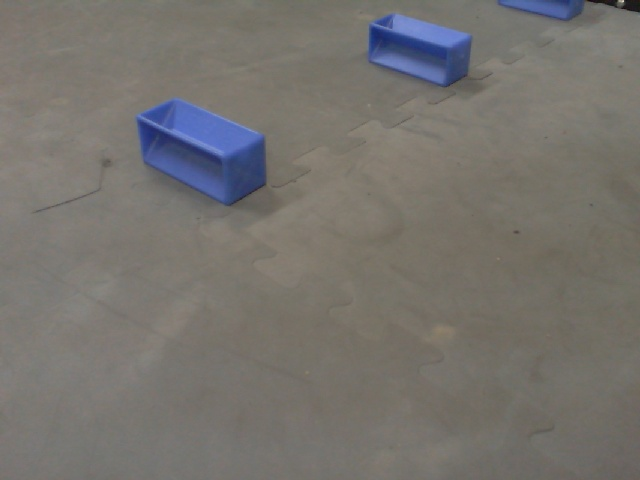BlueSample: (134, 94, 271, 212), (365, 11, 474, 94), (496, 1, 587, 28)
